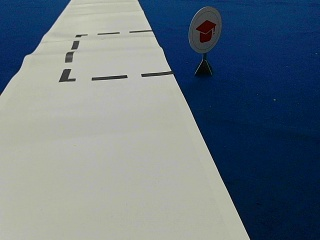school: (187, 6, 221, 53)
